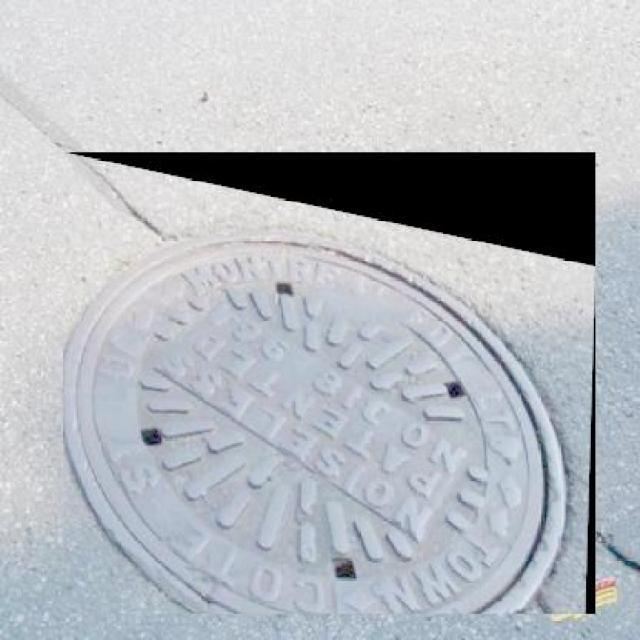Manhole: (62, 152, 596, 614)
